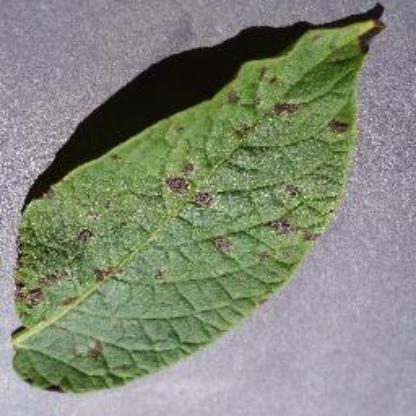Early-Blight: (14, 20, 388, 396)
